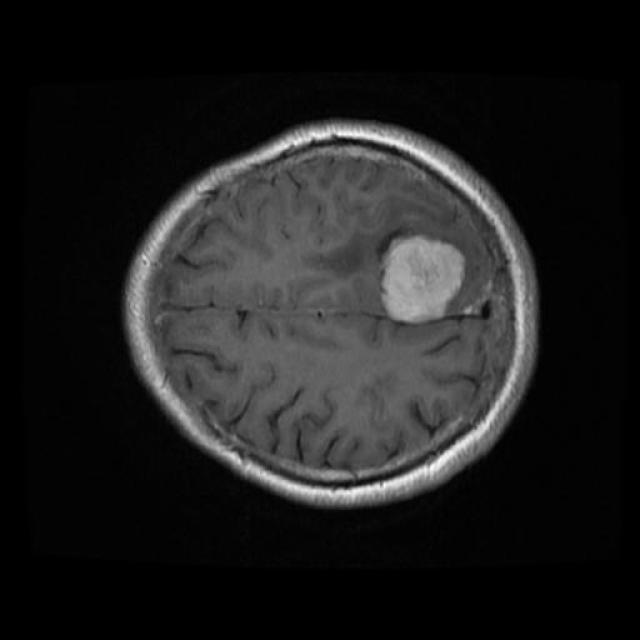Meningioma: (382, 235, 464, 323)
